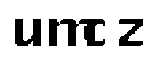c: (84, 17, 107, 47)
m: (46, 16, 92, 51)
u: (10, 12, 42, 50)
z: (116, 17, 148, 49)
